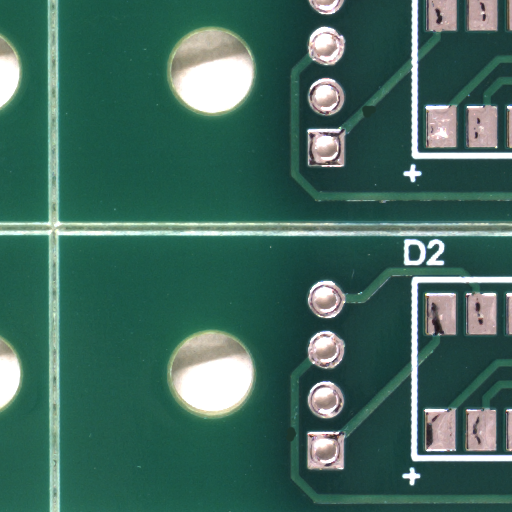Mouse_bite: (368, 110, 381, 123), (292, 435, 300, 453)
